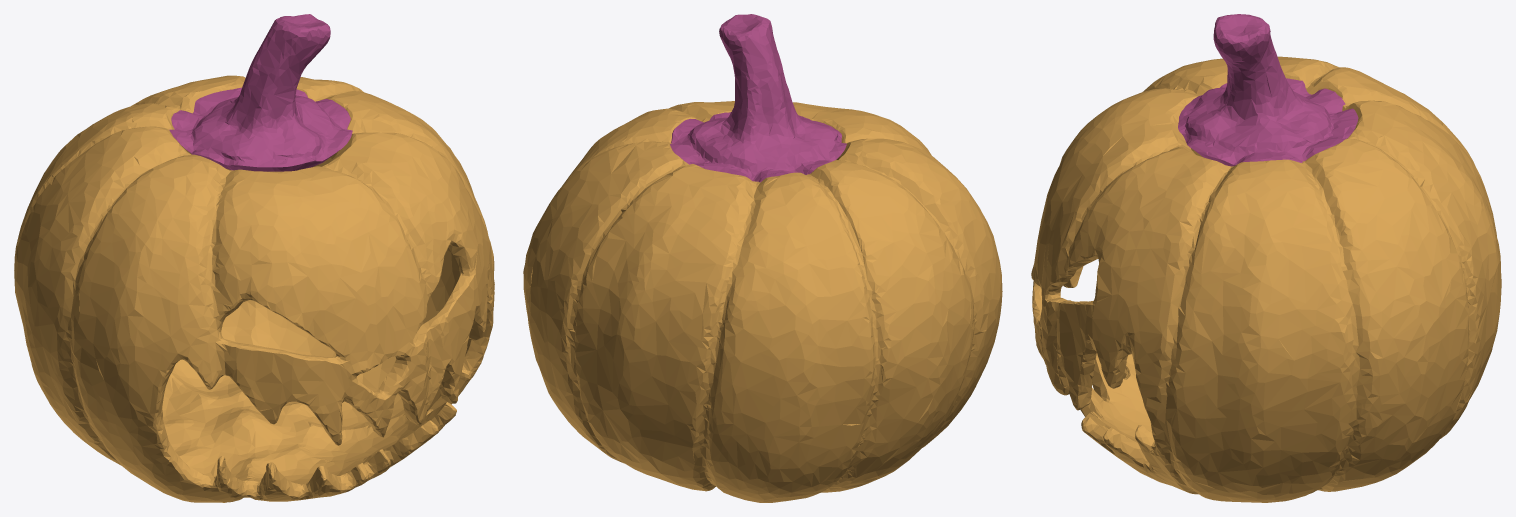
Rendered from JackOLantern.glb.
3 views of the same model, side by side, from view 1: azimuth 30°, elevation 25°; view 2: azimuth 150°, elevation 25°; view 3: azimuth 270°, elevation 25° (orthographic). The views are drawn at different scales.
Parts seen in each view (by area): view 1: Mesh_Mesh_head_geo.001_lambert2SG.001; view 2: Mesh_Mesh_head_geo.001_lambert2SG.001; view 3: Mesh_Mesh_head_geo.001_lambert2SG.001.
Part boxes in pixels (bbox=[...]): Mesh_Mesh_head_geo.001_lambert2SG.001: bbox=[14, 14, 494, 502]; Mesh_Mesh_head_geo.001_lambert2SG.001: bbox=[523, 14, 1002, 502]; Mesh_Mesh_head_geo.001_lambert2SG.001: bbox=[1031, 14, 1501, 502].
Size of the model in its own units: 10.63 by 10.54 by 10.
